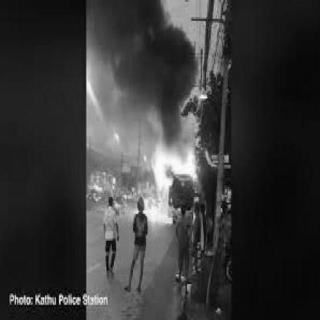Smoke: (85, 0, 192, 134)
